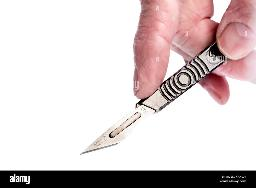scalpel: (80, 41, 230, 155)
